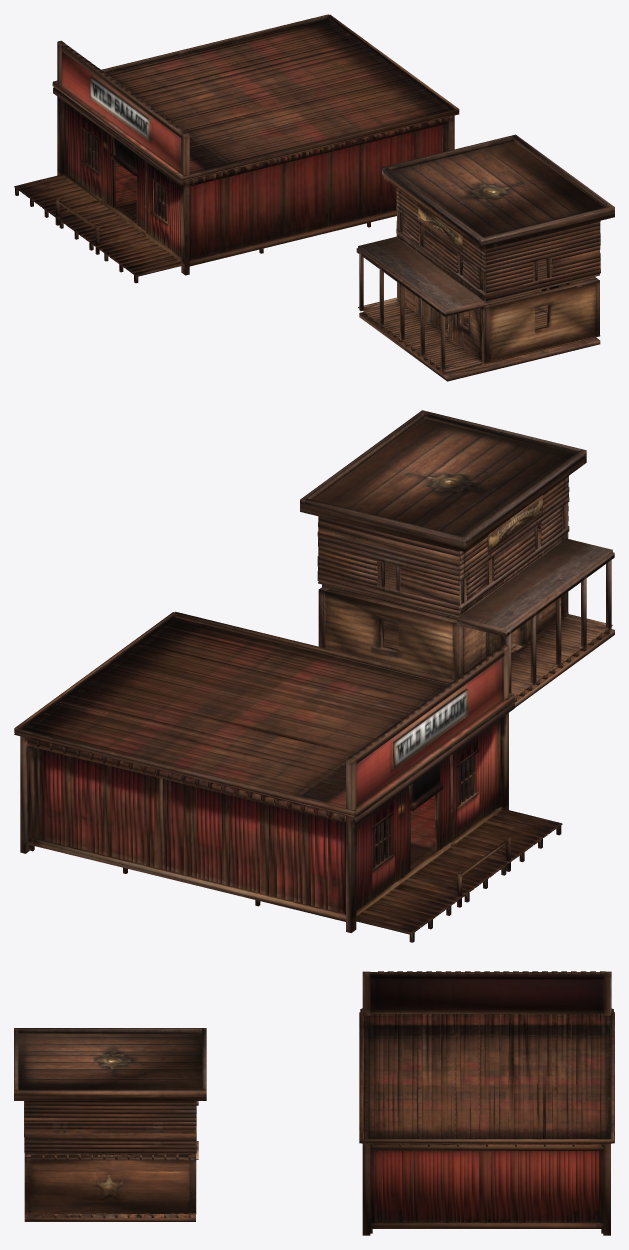
File: townold.glb
3 renders of one model, top to bottom at view 1: azimuth 30°, elevation 25°; view 2: azimuth 150°, elevation 25°; view 3: azimuth 270°, elevation 25°, orthographic. The views are drawn at different scales.
Visible parts, largest first — view 1: Mesh_0.001, Mesh_0.002; view 2: Mesh_0.001, Mesh_0.002; view 3: Mesh_0.001, Mesh_0.002.
Part boxes in pixels (bbox=[...]): Mesh_0.001: bbox=[14, 14, 459, 283]; Mesh_0.002: bbox=[356, 134, 614, 381]; Mesh_0.001: bbox=[14, 611, 562, 942]; Mesh_0.002: bbox=[300, 410, 614, 707]; Mesh_0.001: bbox=[359, 971, 614, 1235]; Mesh_0.002: bbox=[14, 1028, 206, 1221].
Size of what is drawn, in the model's own units: 17.47 by 7.37 by 29.29.
2 materials, 2 textured.
